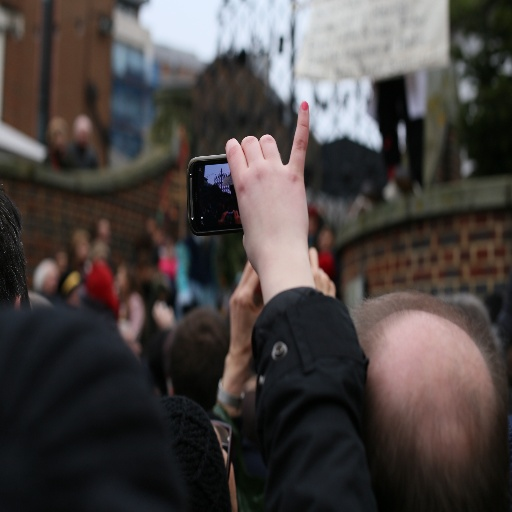hand: (219, 124, 316, 289), (227, 259, 265, 379), (309, 246, 337, 297)
